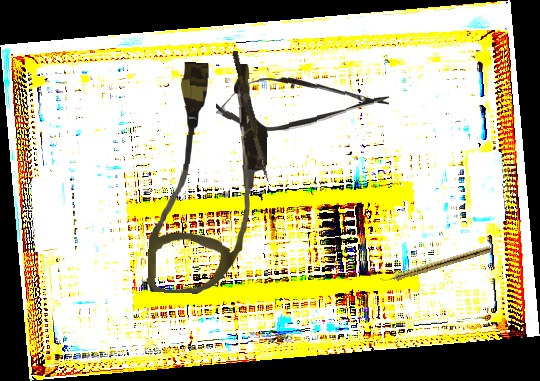Cannula: (147, 61, 270, 296)
Handpiece: (379, 243, 492, 286)
Micro Scissor: (215, 71, 390, 135)
Pusher: (228, 50, 275, 183)
